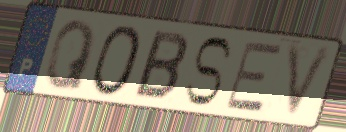B: (130, 27, 190, 103)
E: (223, 41, 285, 115)
O: (90, 23, 145, 99)
Q: (42, 18, 98, 93)
S: (183, 34, 235, 108)
V: (282, 40, 337, 124)
